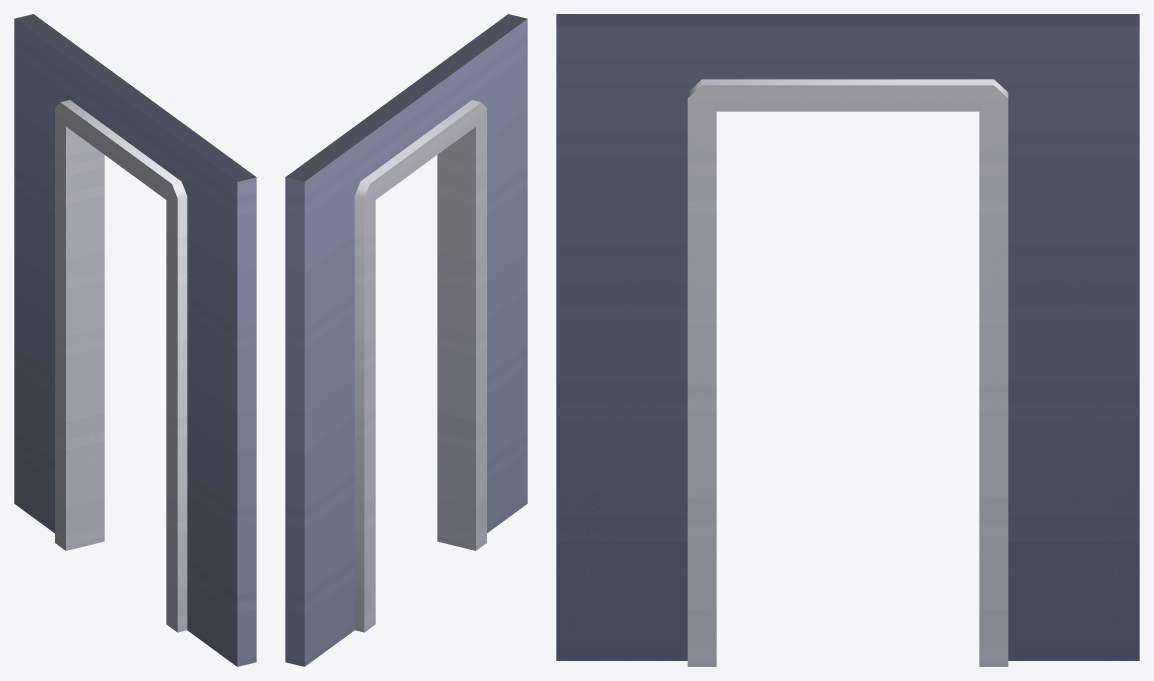
Rendered from Wall Doorway Square.glb.
3 renders of one model, left to right at view 1: azimuth 30°, elevation 25°; view 2: azimuth 150°, elevation 25°; view 3: azimuth 270°, elevation 25°, orthographic. The views are drawn at different scales.
Parts seen in each view (by area): view 1: wall-doorway-square; view 2: wall-doorway-square; view 3: wall-doorway-square.
Boxes of the visible parts, left/top/right/bottom form: wall-doorway-square: left=14, top=14, right=256, bottom=666; wall-doorway-square: left=285, top=14, right=527, bottom=666; wall-doorway-square: left=556, top=14, right=1139, bottom=666.
Bounding box in the file's own units: 0.2 × 2.4 × 2.
Materials: 1 (1 with a texture image).
